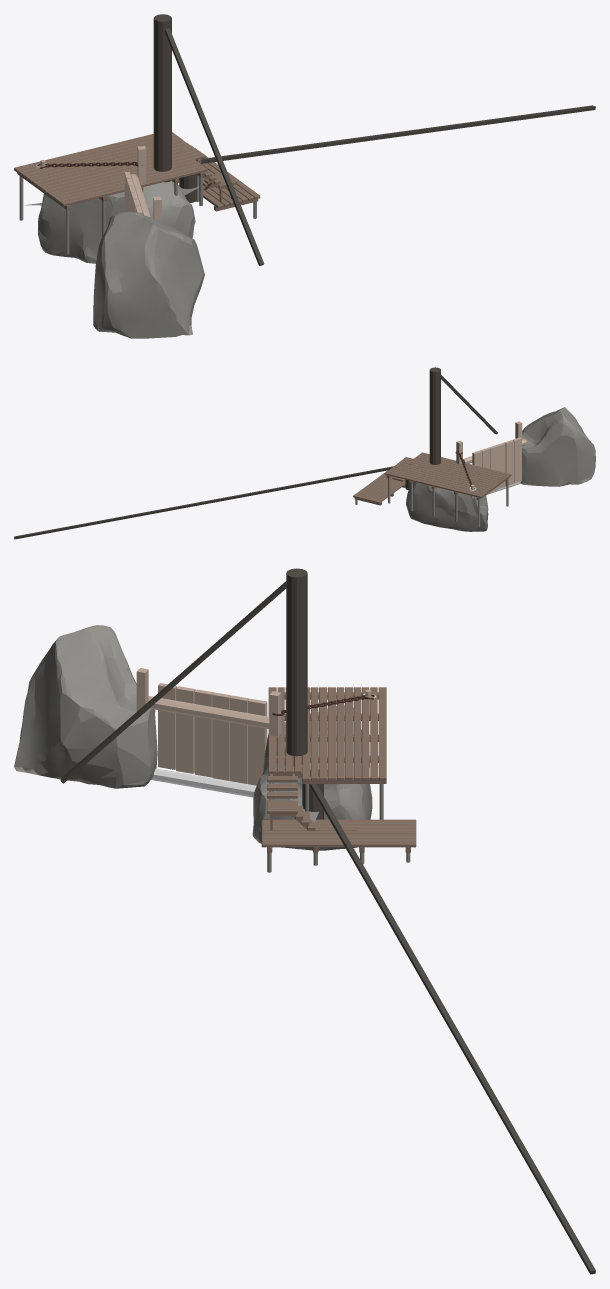
Rendered from MountainRoom.fbx.
3 views of the same model, one above another, from view 1: azimuth 30°, elevation 25°; view 2: azimuth 150°, elevation 25°; view 3: azimuth 270°, elevation 25° (orthographic). The views are drawn at different scales.
Parts seen in each view (by area): view 1: DamWall.001, Terrace.001, DamWall.006, Terrace.003, Cable.001, Cable.002, Terrace, Terrace.004, Terrace.002; view 2: DamWall.001, Terrace.001, DamWall.006, Cable.001, Terrace.003, Terrace, Terrace.004, DamPlank.002, DamPlank.001, Cable.002, DamPlank.003; view 3: DamWall.001, Terrace.001, Terrace.003, Terrace, Cable.001, DamWall.006, Cable.002, DamLog.003, Terrace.002, DamPlank.003, DamPlank.002, DamPlank.004 (+4 smaller).
Boxes of the visible parts, bbox=[...] form: DamWall.001: bbox=[93, 212, 204, 338]; Terrace.001: bbox=[14, 132, 207, 209]; DamWall.006: bbox=[38, 180, 195, 263]; Terrace.003: bbox=[153, 14, 196, 202]; Cable.001: bbox=[201, 105, 595, 163]; Cable.002: bbox=[165, 28, 264, 265]; Terrace: bbox=[179, 150, 260, 218]; Terrace.004: bbox=[19, 175, 202, 254]; Terrace.002: bbox=[203, 171, 237, 201]; DamWall.001: bbox=[520, 407, 595, 486]; Terrace.001: bbox=[384, 452, 511, 500]; DamWall.006: bbox=[406, 482, 488, 531]; Cable.001: bbox=[14, 466, 394, 539]; Terrace.003: bbox=[405, 367, 440, 490]; Terrace: bbox=[353, 470, 405, 505]; Terrace.004: bbox=[388, 478, 508, 527]; DamPlank.002: bbox=[504, 440, 513, 485]; DamPlank.001: bbox=[513, 437, 521, 483]; Cable.002: bbox=[441, 375, 497, 434]; DamPlank.003: bbox=[496, 442, 505, 488]; DamWall.001: bbox=[14, 625, 157, 788]; Terrace.001: bbox=[268, 687, 386, 783]; Terrace.003: bbox=[286, 568, 323, 819]; Terrace: bbox=[261, 819, 416, 872]; Cable.001: bbox=[310, 784, 595, 1274]; DamWall.006: bbox=[252, 705, 372, 850]; Cable.002: bbox=[60, 581, 286, 783]; DamLog.003: bbox=[148, 696, 269, 729]; Terrace.002: bbox=[267, 772, 315, 830]; DamPlank.003: bbox=[194, 689, 213, 777]; DamPlank.002: bbox=[176, 686, 195, 773]; DamPlank.004: bbox=[212, 692, 231, 780].
Size of the model in its own units: 63.81 by 27.07 by 37.73.
